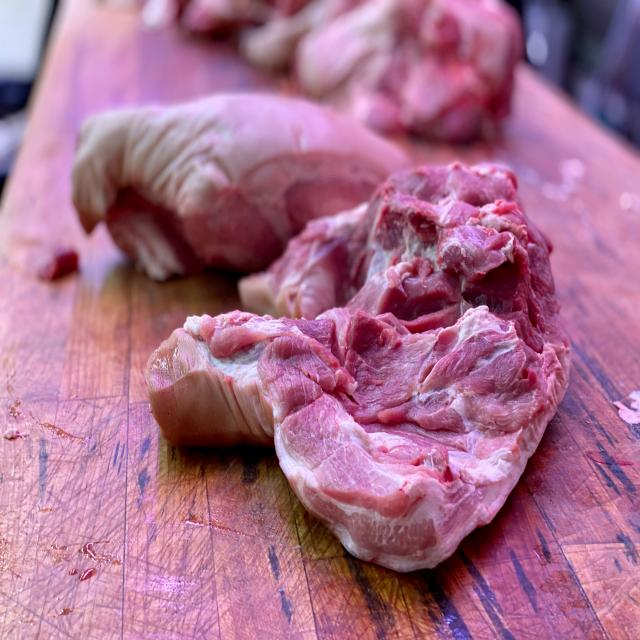pork: (143, 145, 574, 574)
